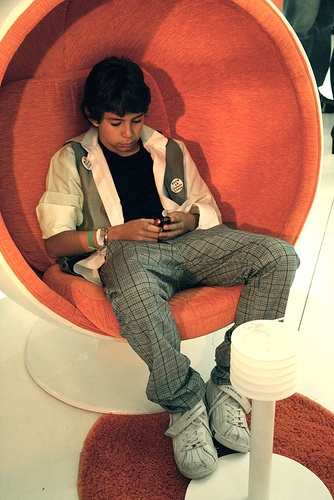head: (78, 54, 151, 152)
person: (35, 49, 305, 474)
